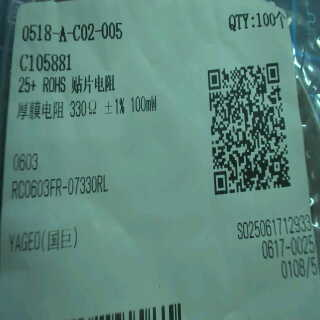330R: (68, 96, 98, 125)
